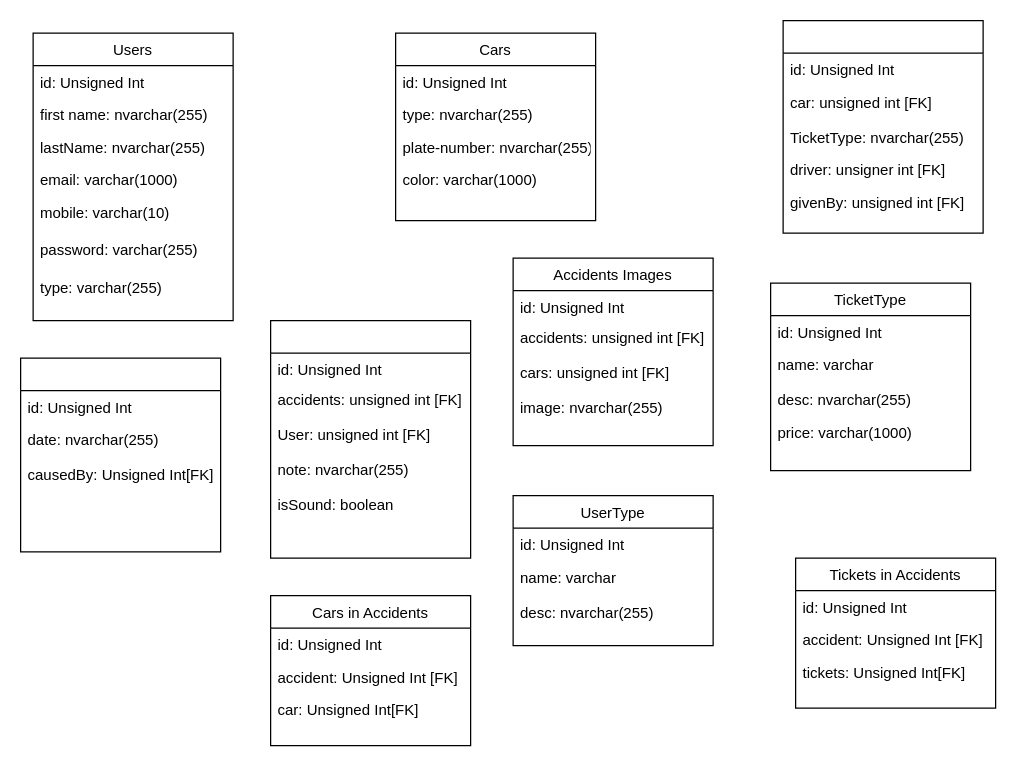
Some shapes in this 1016 by 766 pixel diagram are drawn without their labels. Here are the shapes that lost their labels. From the top down, the box of each, then its label:
(782, 19, 983, 233): Tickets
(19, 357, 221, 552): Accidents
(269, 319, 471, 558): Accidents Notes
